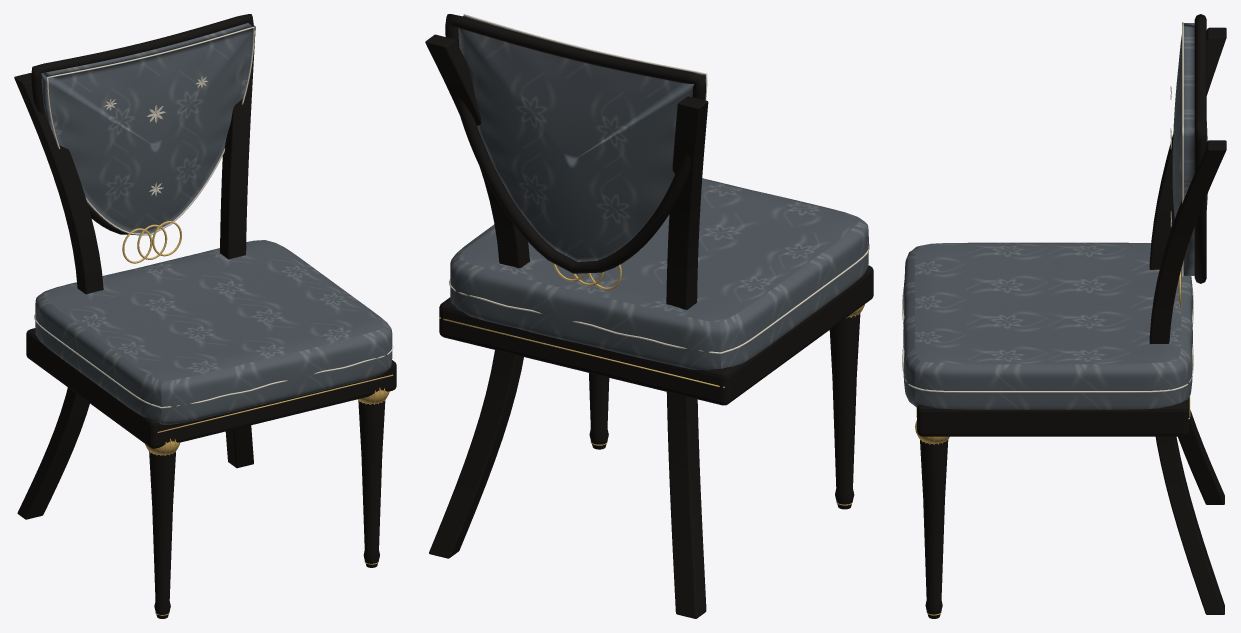
3 renders of one model, left to right at view 1: azimuth 30°, elevation 25°; view 2: azimuth 150°, elevation 25°; view 3: azimuth 270°, elevation 25°, orthographic. The views are drawn at different scales.
Parts seen in each view (by area): view 1: Nantes shield-back dining chair | 50344.0 | dining-10 web ba; view 2: Nantes shield-back dining chair | 50344.0 | dining-10 web ba; view 3: Nantes shield-back dining chair | 50344.0 | dining-10 web ba.
Boxes of the visible parts, bbox=[...] form: Nantes shield-back dining chair | 50344.0 | dining-10 web ba: bbox=[14, 14, 396, 618]; Nantes shield-back dining chair | 50344.0 | dining-10 web ba: bbox=[425, 14, 873, 618]; Nantes shield-back dining chair | 50344.0 | dining-10 web ba: bbox=[902, 14, 1226, 618].
Bounding box in the file's own units: 0.55 × 0.97 × 0.58.
Materials: 5 (1 with a texture image).
